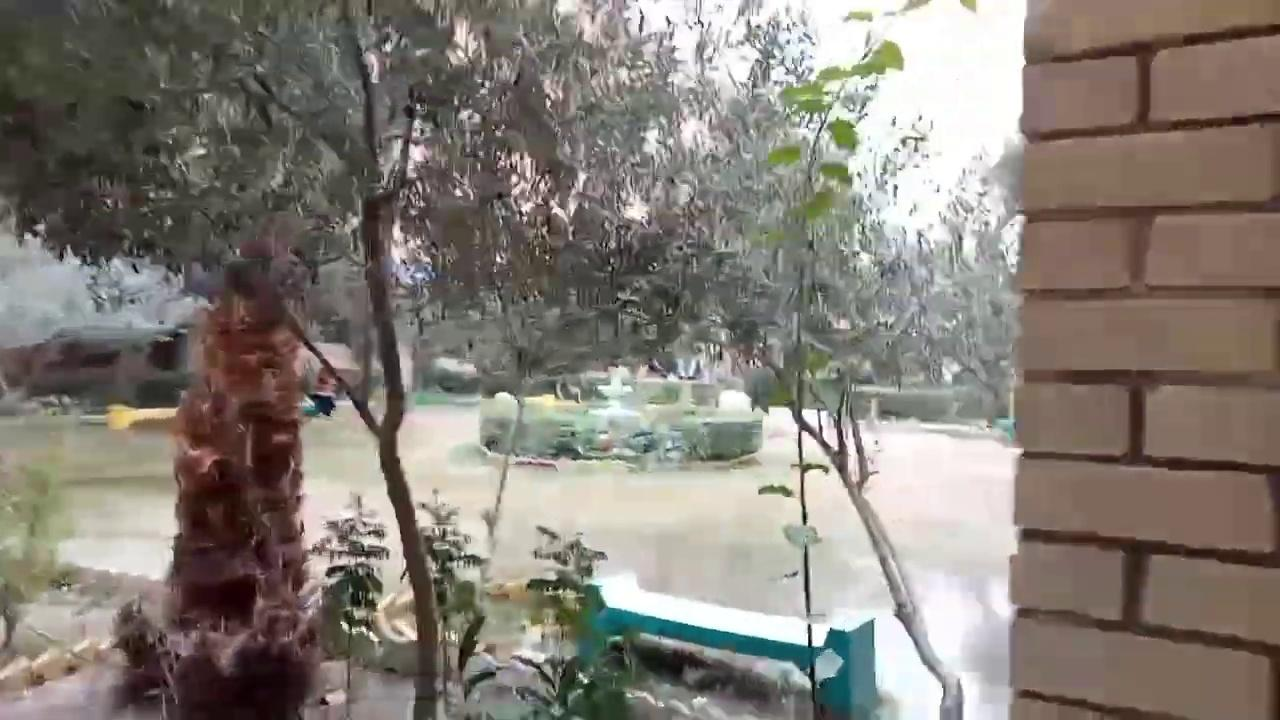person: (306, 364, 339, 417)
tree: (1, 0, 1022, 717), (0, 0, 1016, 386), (632, 1, 1021, 717), (107, 213, 343, 717)
